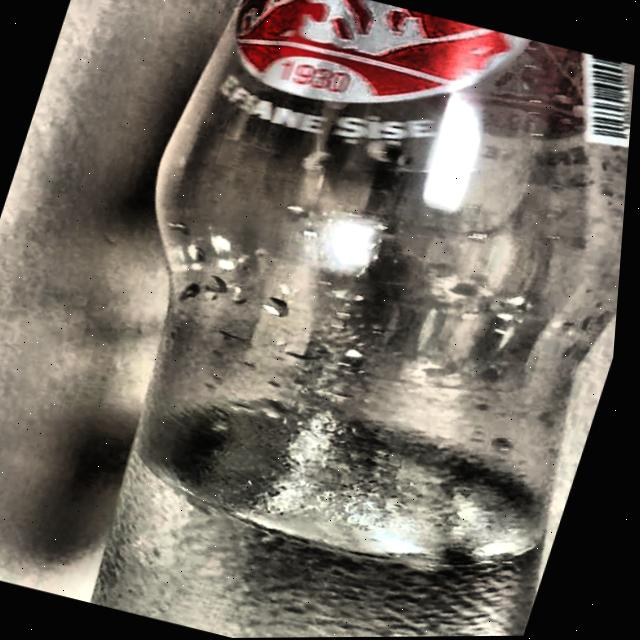plastic: (97, 0, 636, 638)
